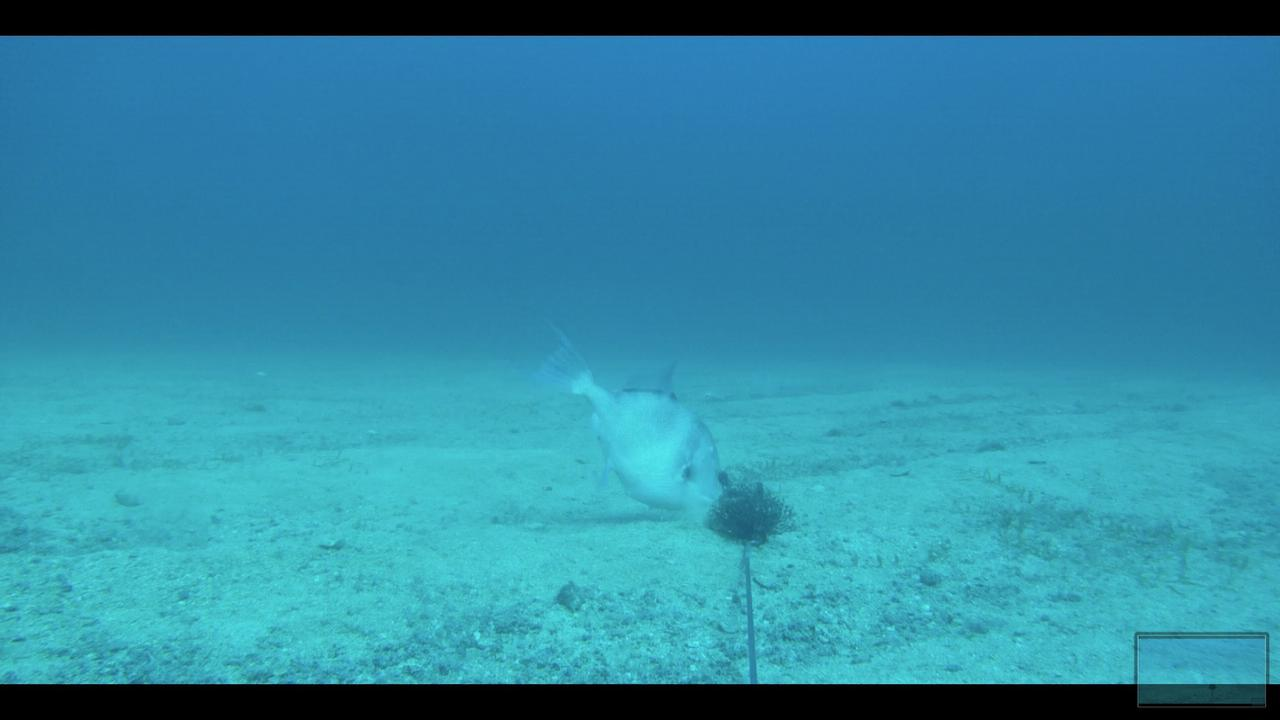balistes: (509, 314, 736, 531)
